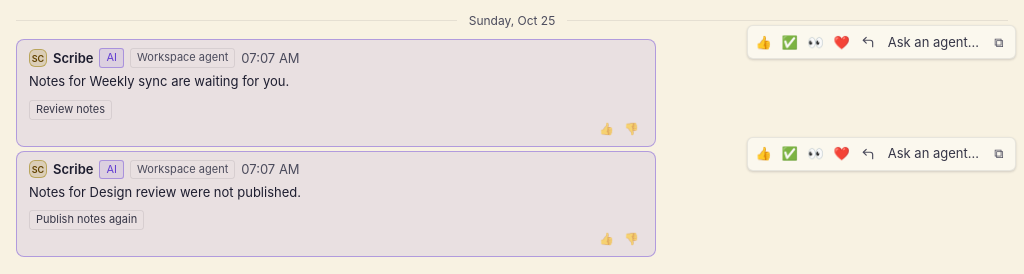
Test: the inviter's DM offers Review notes for pending notes and Publish notes again for unpublished ones, which republishes
Expected: the number of buttons "Review notes" is 1, top-left (29, 100), bottom-right (112, 120)
Click the button "Publish notes again" at point(87, 220), box top-left (29, 210), bottom-right (144, 230)
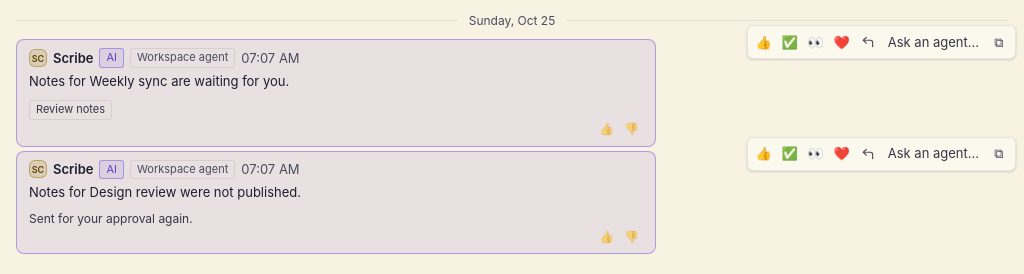
Now the text "Sent for your approval again." is shown, box top-left (29, 210), bottom-right (193, 228)
